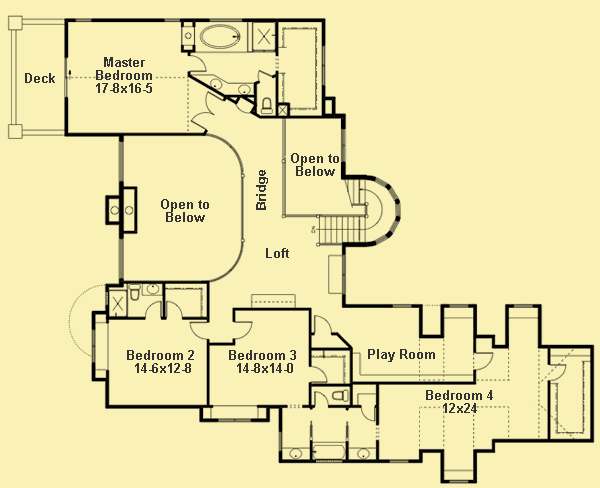door: (188, 91, 223, 130), (311, 314, 334, 336), (472, 349, 495, 370), (233, 320, 255, 341), (308, 363, 329, 384), (164, 298, 184, 319), (187, 53, 207, 74), (548, 361, 567, 383), (188, 320, 208, 340), (144, 300, 162, 319), (311, 390, 330, 407), (361, 405, 376, 422)
large_sink: (256, 94, 276, 115), (125, 283, 145, 304), (331, 387, 352, 403)
small_sink: (199, 74, 226, 94), (281, 446, 310, 461), (346, 447, 376, 461), (228, 81, 255, 95), (140, 284, 167, 297)
stairs: (311, 177, 374, 246)
tub: (196, 22, 246, 51), (309, 441, 348, 461)
windows: (117, 140, 125, 183), (386, 456, 410, 465), (391, 302, 414, 311), (446, 303, 470, 309), (512, 303, 534, 309)
